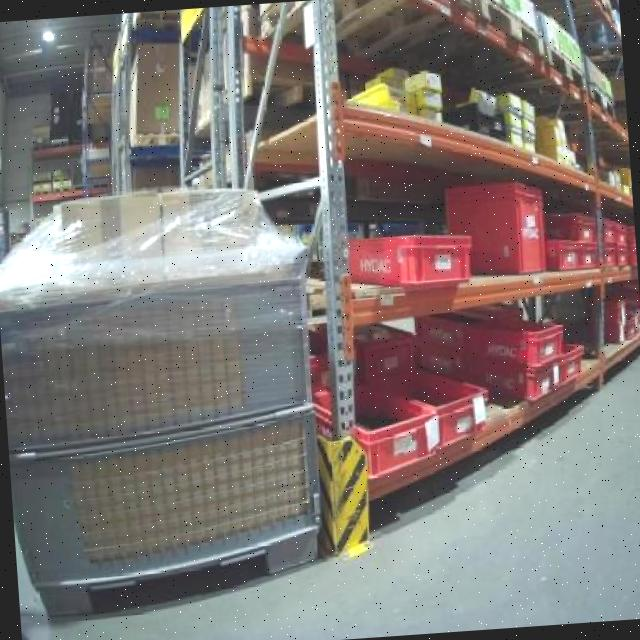pallet: (27, 184, 55, 197), (48, 183, 74, 196), (49, 174, 71, 186)
